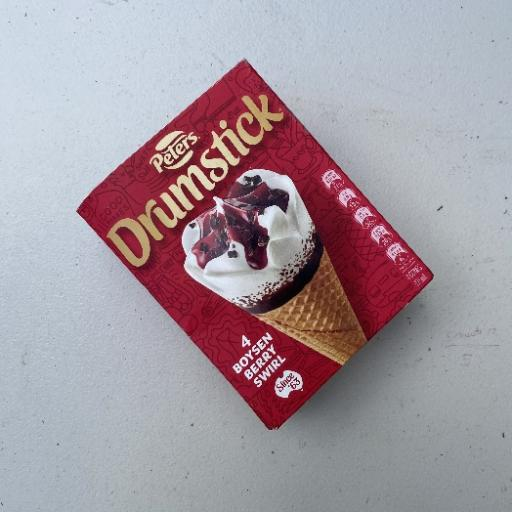Cardboard: (74, 58, 435, 431), (180, 167, 324, 315)
